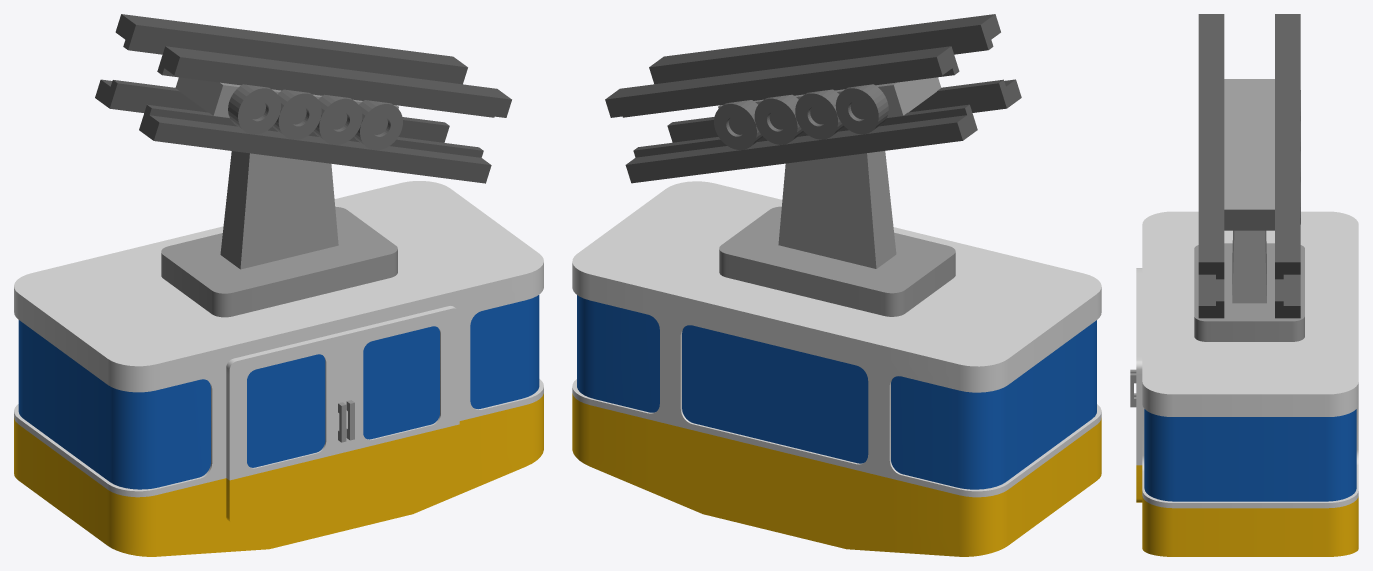
The model's file is mountain_cableway.glb.
The picture shows the model from 3 angles, left to right: view 1: azimuth 30°, elevation 25°; view 2: azimuth 150°, elevation 25°; view 3: azimuth 270°, elevation 25°; orthographic projection. The views are drawn at different scales.
Visible parts, largest first — view 1: Cube.861; view 2: Cube.861; view 3: Cube.861.
Boxes of the visible parts, bbox=[...] form: Cube.861: bbox=[14, 14, 543, 556]; Cube.861: bbox=[572, 14, 1101, 556]; Cube.861: bbox=[1130, 14, 1358, 556].
Bounding box in the file's own units: 2 × 2.14 × 1.06.
1 material, 1 textured.
